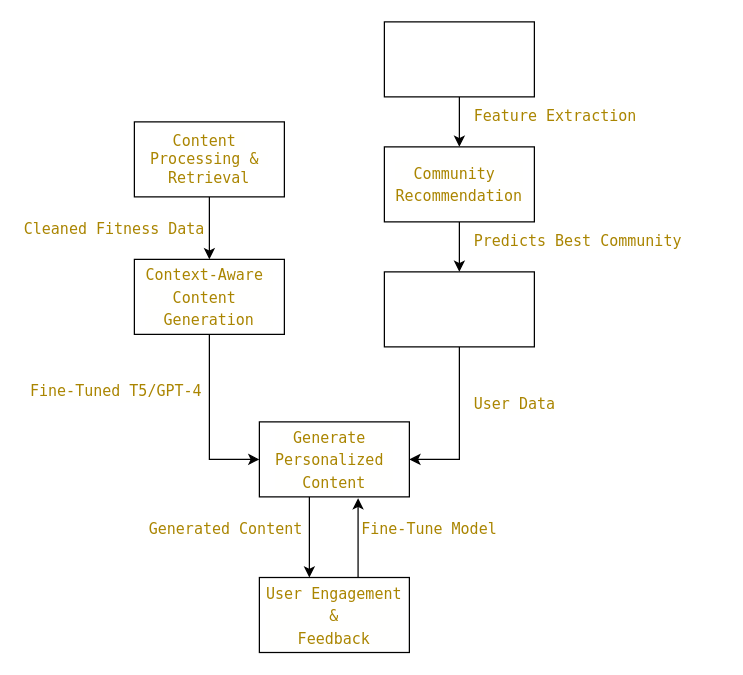
This 743x675 diagram has some shape labels left out. Here are the shapes that lost their labels. From the top down, the box of each, then its label:
(383, 21, 534, 97): User Profiling
(383, 271, 534, 347): Community Assignment
